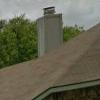Chimney: (32, 3, 69, 62)
